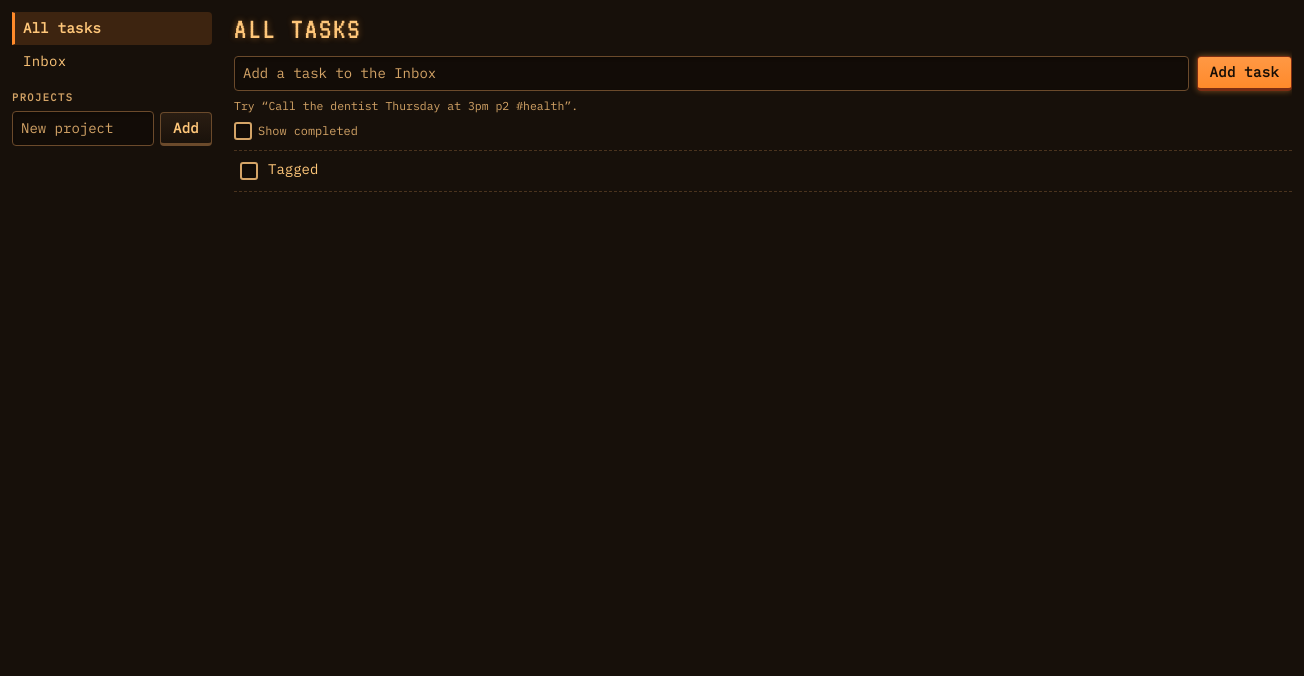
Test: TasksView › shows a validation error next to the field that caused it
This screenshot has width=1304, height=676.
Click the button "Tagged": [293, 170] box left=268, top=159, right=318, bottom=180
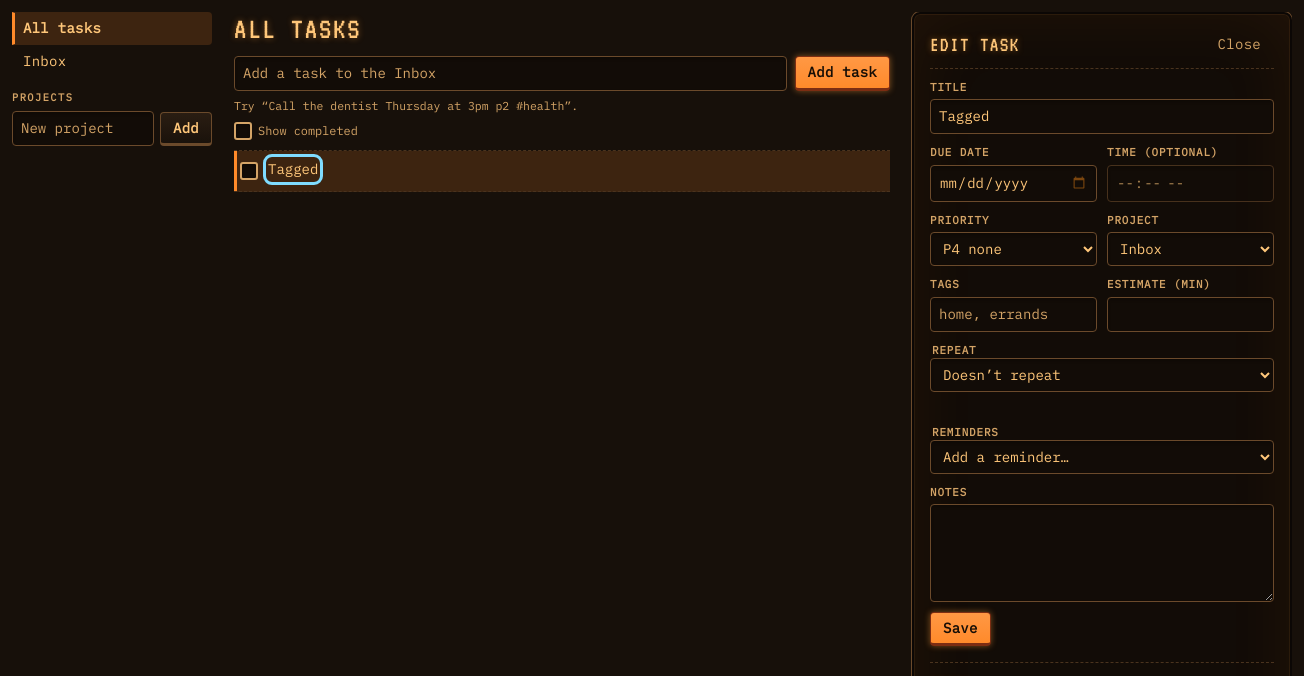
In the field labelled "Tags": [1014, 314] box left=930, top=296, right=1097, bottom=332, type "not/allowed"
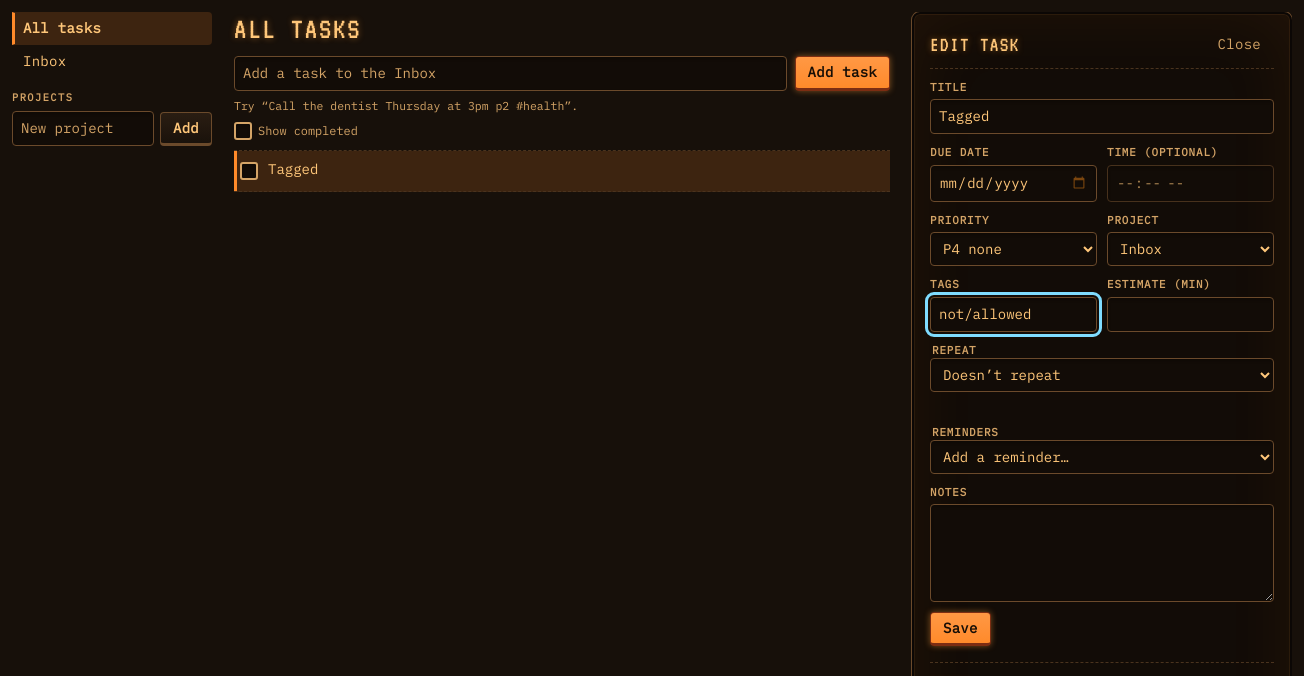
Click the button "Save": [960, 629] box left=930, top=612, right=991, bottom=646
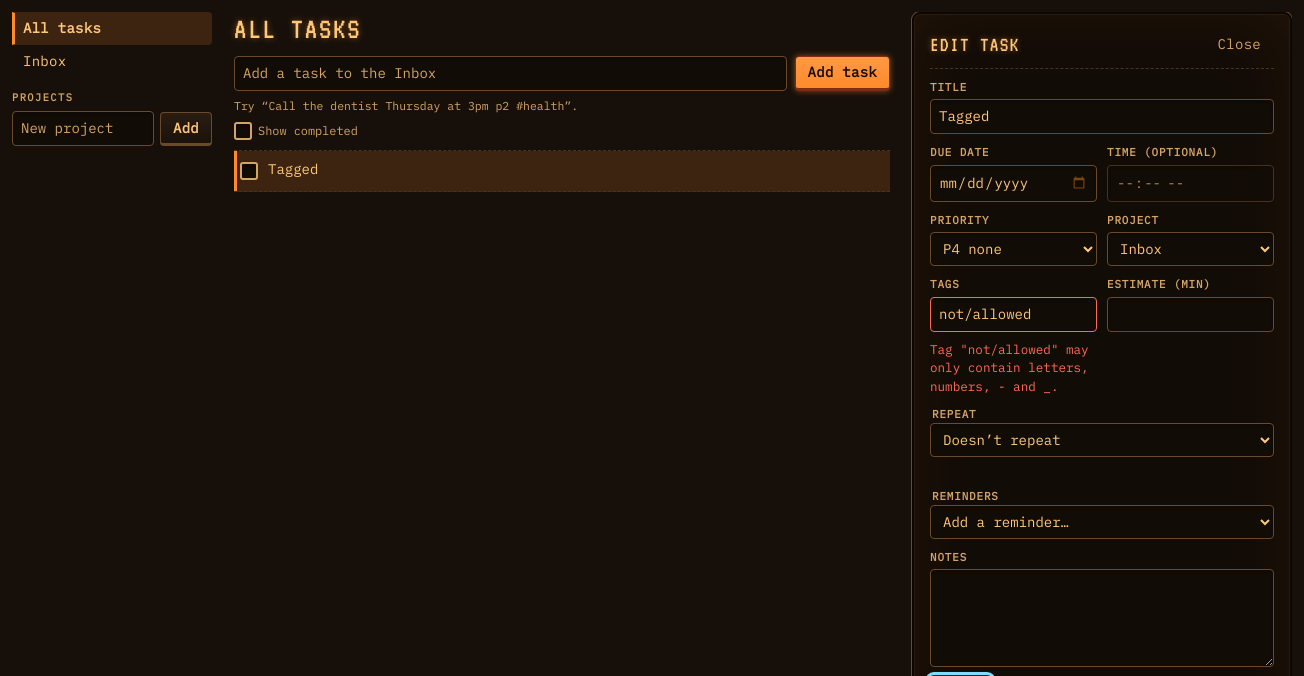
expect the text "may only contain letters" is shown: met, box left=930, top=340, right=1089, bottom=394
